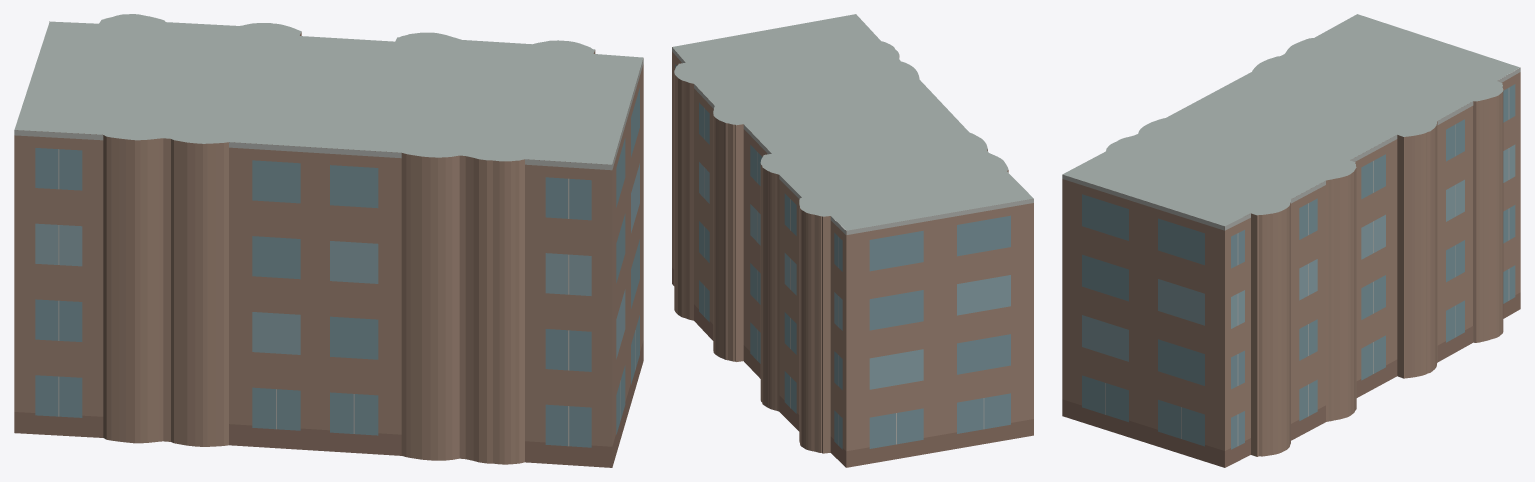
File: survey-upis-32641711.glb
The picture shows the model from 3 angles, left to right: view 1: azimuth 30°, elevation 25°; view 2: azimuth 150°, elevation 25°; view 3: azimuth 270°, elevation 25°; orthographic projection. The views are drawn at different scales.
Parts seen in each view (by area): view 1: survey-upis-32641711.tmp; view 2: survey-upis-32641711.tmp; view 3: survey-upis-32641711.tmp.
Boxes of the visible parts, left/top/right/bottom form: survey-upis-32641711.tmp: left=14, top=14, right=643, bottom=467; survey-upis-32641711.tmp: left=672, top=14, right=1033, bottom=467; survey-upis-32641711.tmp: left=1062, top=14, right=1520, bottom=467.
Bounding box in the file's own units: 25.27 × 13.4 × 23.06.
